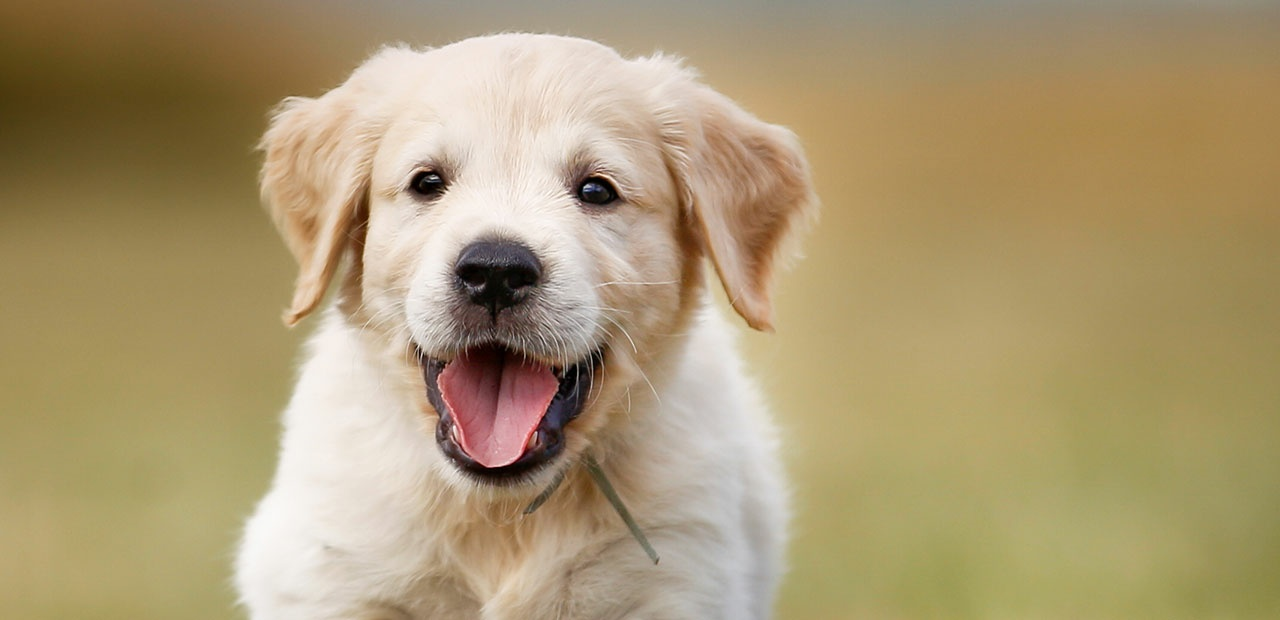dog: (255, 32, 812, 498)
